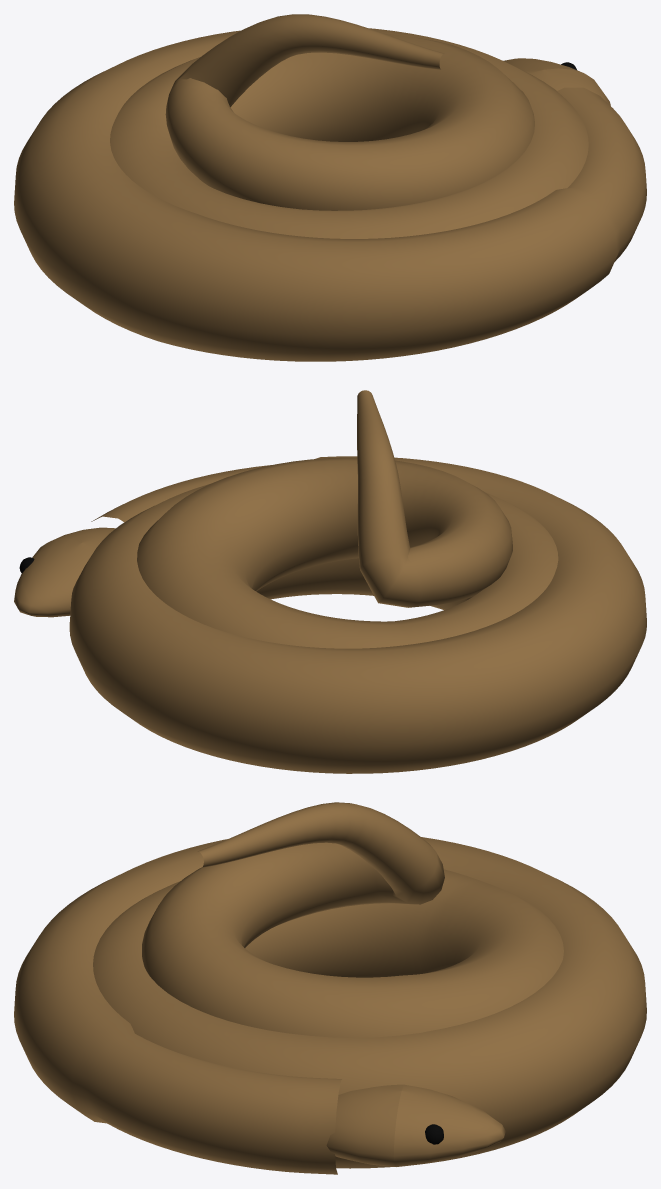
The model's file is animal_python.glb.
The picture shows the model from 3 angles, top to bottom: view 1: azimuth 30°, elevation 25°; view 2: azimuth 150°, elevation 25°; view 3: azimuth 270°, elevation 25°; orthographic projection. The views are drawn at different scales.
Parts seen in each view (by area): view 1: animal_python__snake; view 2: animal_python__snake; view 3: animal_python__snake.
Part boxes in pixels (x1=…): animal_python__snake: x1=14, y1=14, x2=646, y2=361; animal_python__snake: x1=14, y1=390, x2=646, y2=773; animal_python__snake: x1=14, y1=802, x2=646, y2=1174.
Size of the model in its own units: 0.2384 by 0.0976 by 0.2231.
